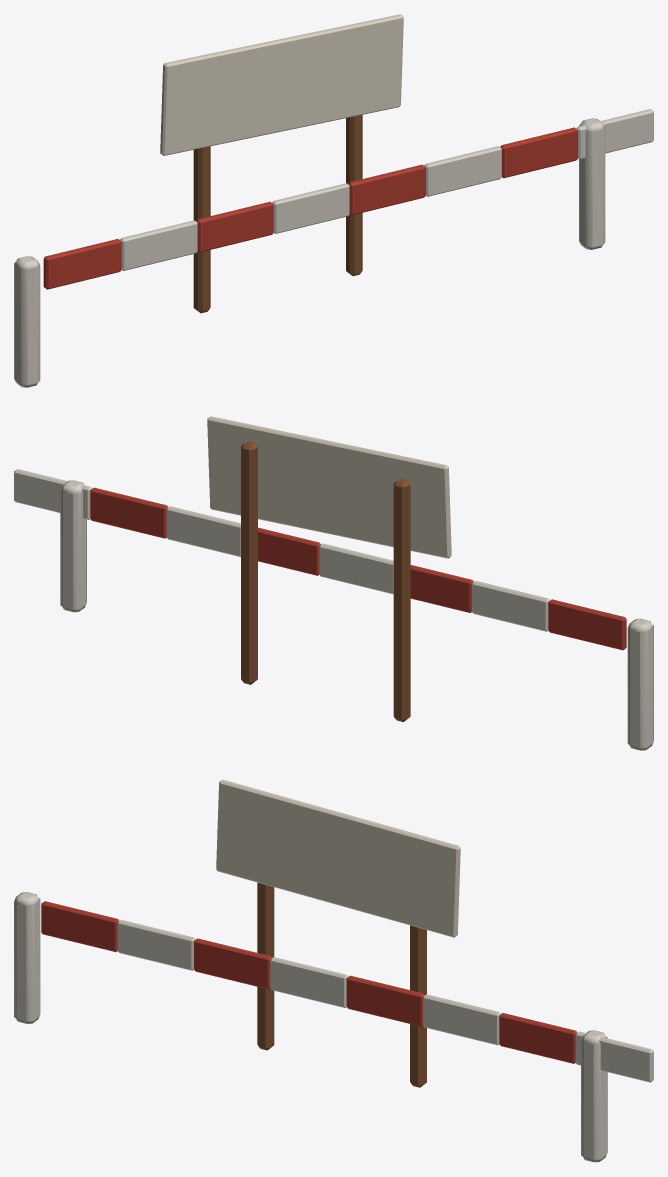
File: barrier.glb
3 renders of one model, top to bottom at view 1: azimuth 30°, elevation 25°; view 2: azimuth 150°, elevation 25°; view 3: azimuth 330°, elevation 25°, orthographic.
Visible parts, largest first — view 1: body; view 2: body; view 3: body.
Boxes of the visible parts, box(x1,y1,x2,y2) form: body: box(14, 14, 653, 387); body: box(14, 416, 653, 750); body: box(14, 779, 653, 1162).
Bounding box in the file's own units: 5.84 × 2.29 × 0.65.
